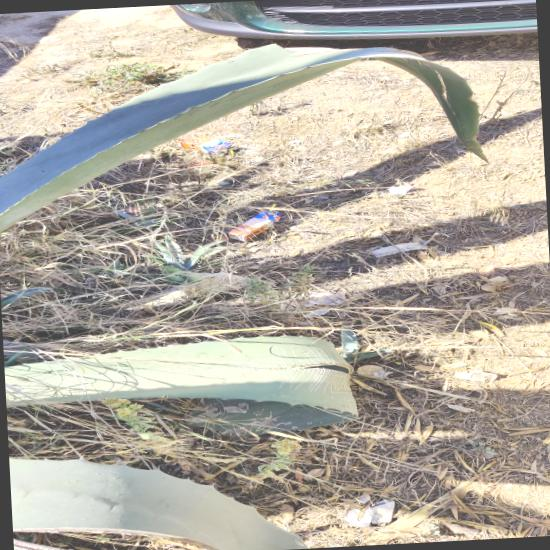Drink carton: (227, 210, 283, 242), (177, 135, 239, 155)
Other plastic: (370, 500, 395, 524), (453, 370, 498, 381)
Plastic straw: (268, 204, 277, 212)
Unlabeled litter: (373, 242, 426, 257), (347, 506, 375, 528), (187, 157, 225, 169), (389, 186, 413, 194)
